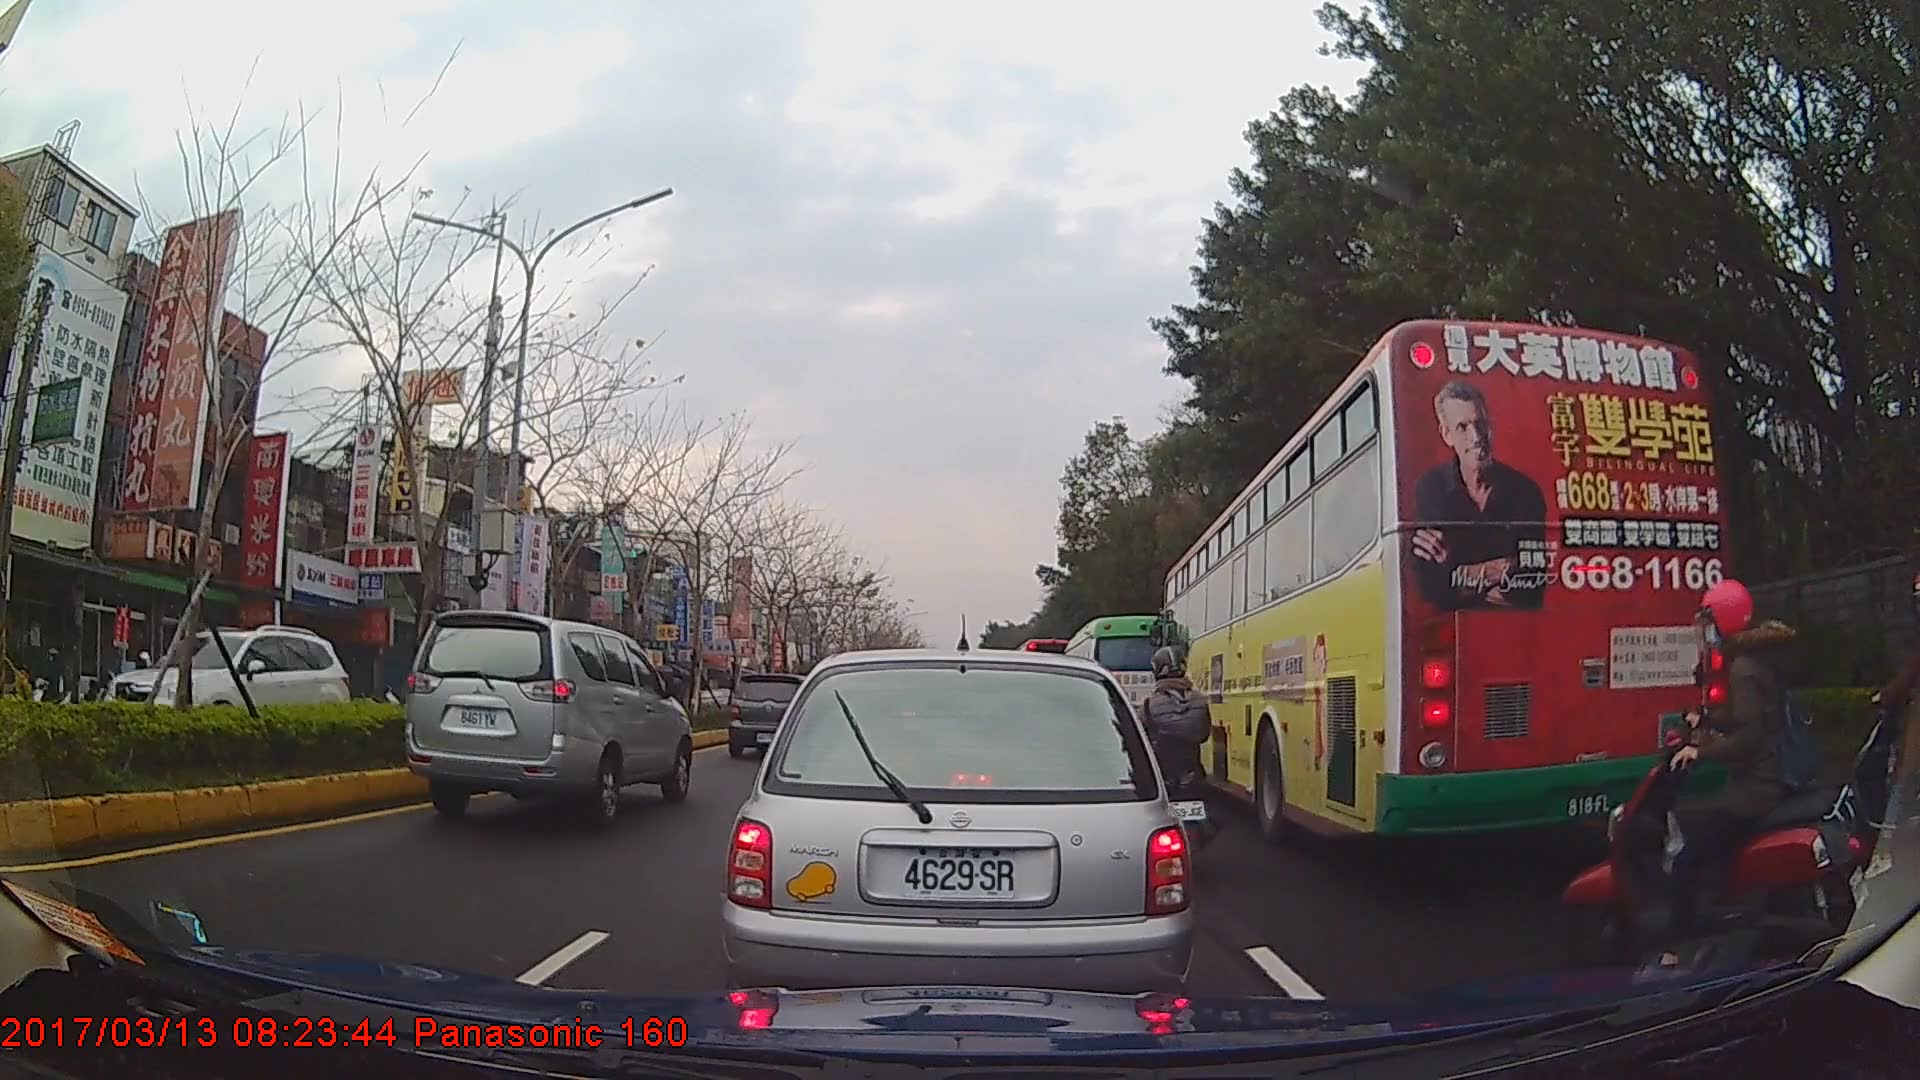rider: (1564, 575, 1870, 981), (1834, 571, 1920, 893), (1131, 645, 1213, 866), (34, 648, 71, 706)
vehicle: (1160, 316, 1732, 838), (724, 645, 1191, 1026), (402, 609, 692, 826), (101, 621, 348, 750), (1062, 613, 1187, 769), (727, 672, 814, 758)
